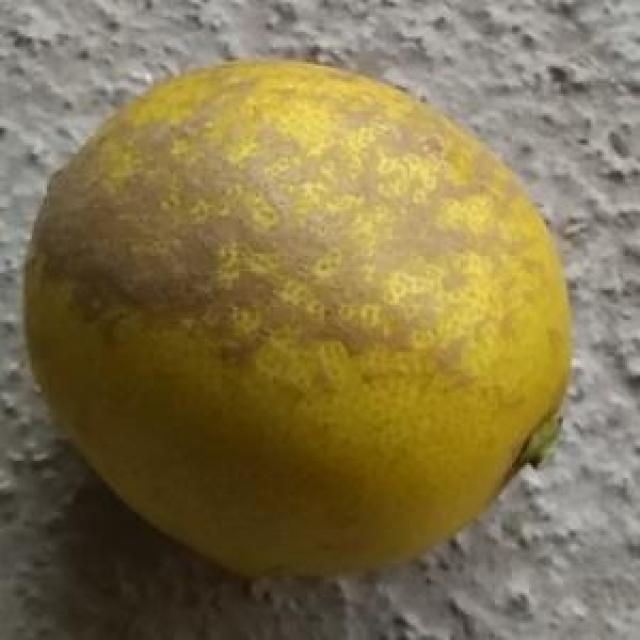lemon: (18, 50, 582, 578)
